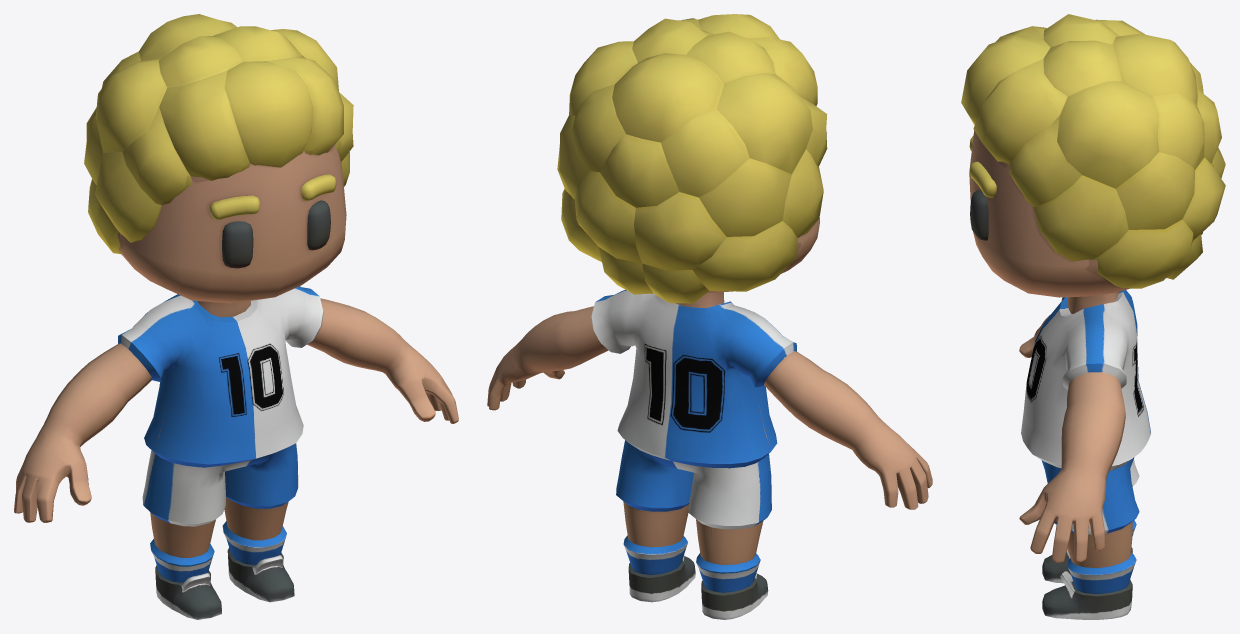
Rendered from CharacterA.gltf.
3 renders of one model, left to right at view 1: azimuth 30°, elevation 25°; view 2: azimuth 150°, elevation 25°; view 3: azimuth 270°, elevation 25°, orthographic.
Parts seen in each view (by area): view 1: Footballer; view 2: Footballer; view 3: Footballer.
Part boxes in pixels (box(x1,y1,x2,y2)): Footballer: box(14, 14, 458, 619); Footballer: box(487, 14, 932, 619); Footballer: box(961, 14, 1225, 619).
Bounding box in the file's own units: 1.69 × 2.1 × 0.9051.
1 material, 1 textured.
